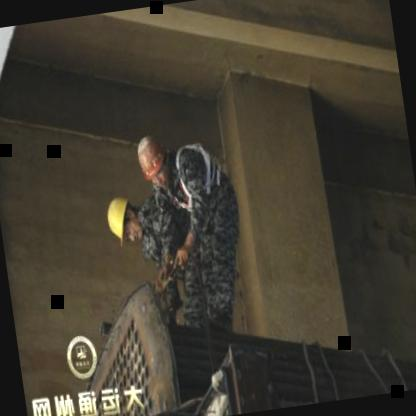helmet: (105, 192, 148, 254), (132, 130, 174, 191)
